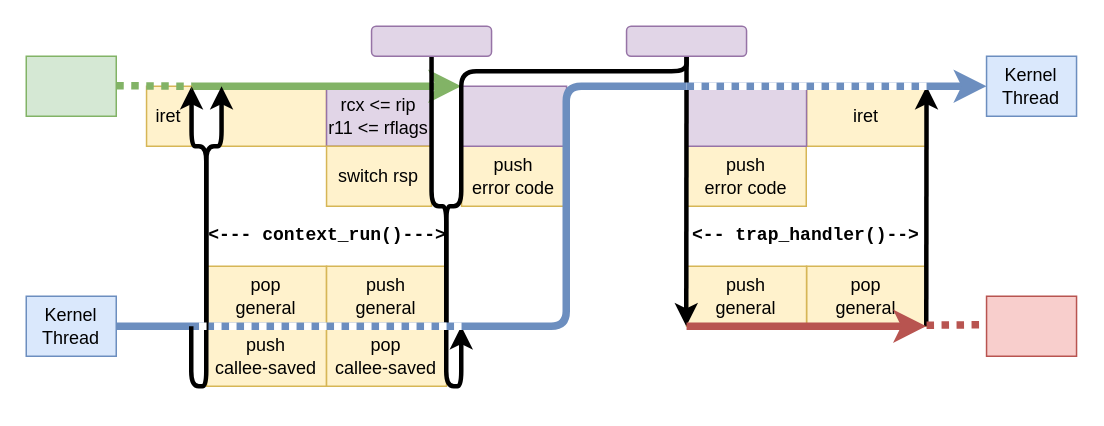
Image size: 1104x426. Some labels were removed from this diagram. Each missing label, with the centre of its shape:
Interrupt Handler: (1031,325)
push rip, cs, rflags: (746,115)
switch rsp push x5: (513,115)
syscall: (431,40)
sysret: (273,115)
trap: (686,40)
User Space: (70,85)
